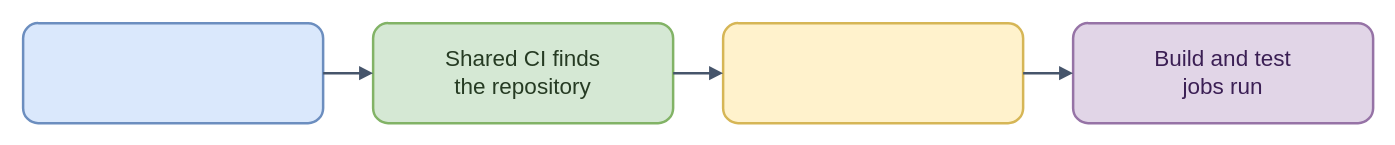
Some shapes in this 1395 by 145 pixel diagram are drawn without their labels. Here are the shapes that lost their labels. From the top down, the centre of each, then its label:
At point (172, 72): "A branch or pull request changes".
At point (872, 72): "The project supplies its pipeline".
